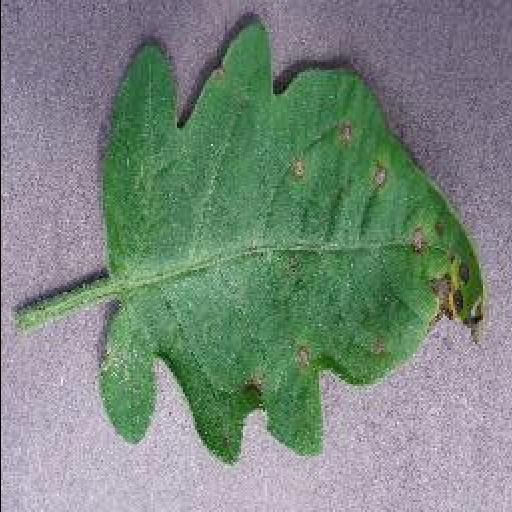disease_tomato: (98, 20, 488, 466)
